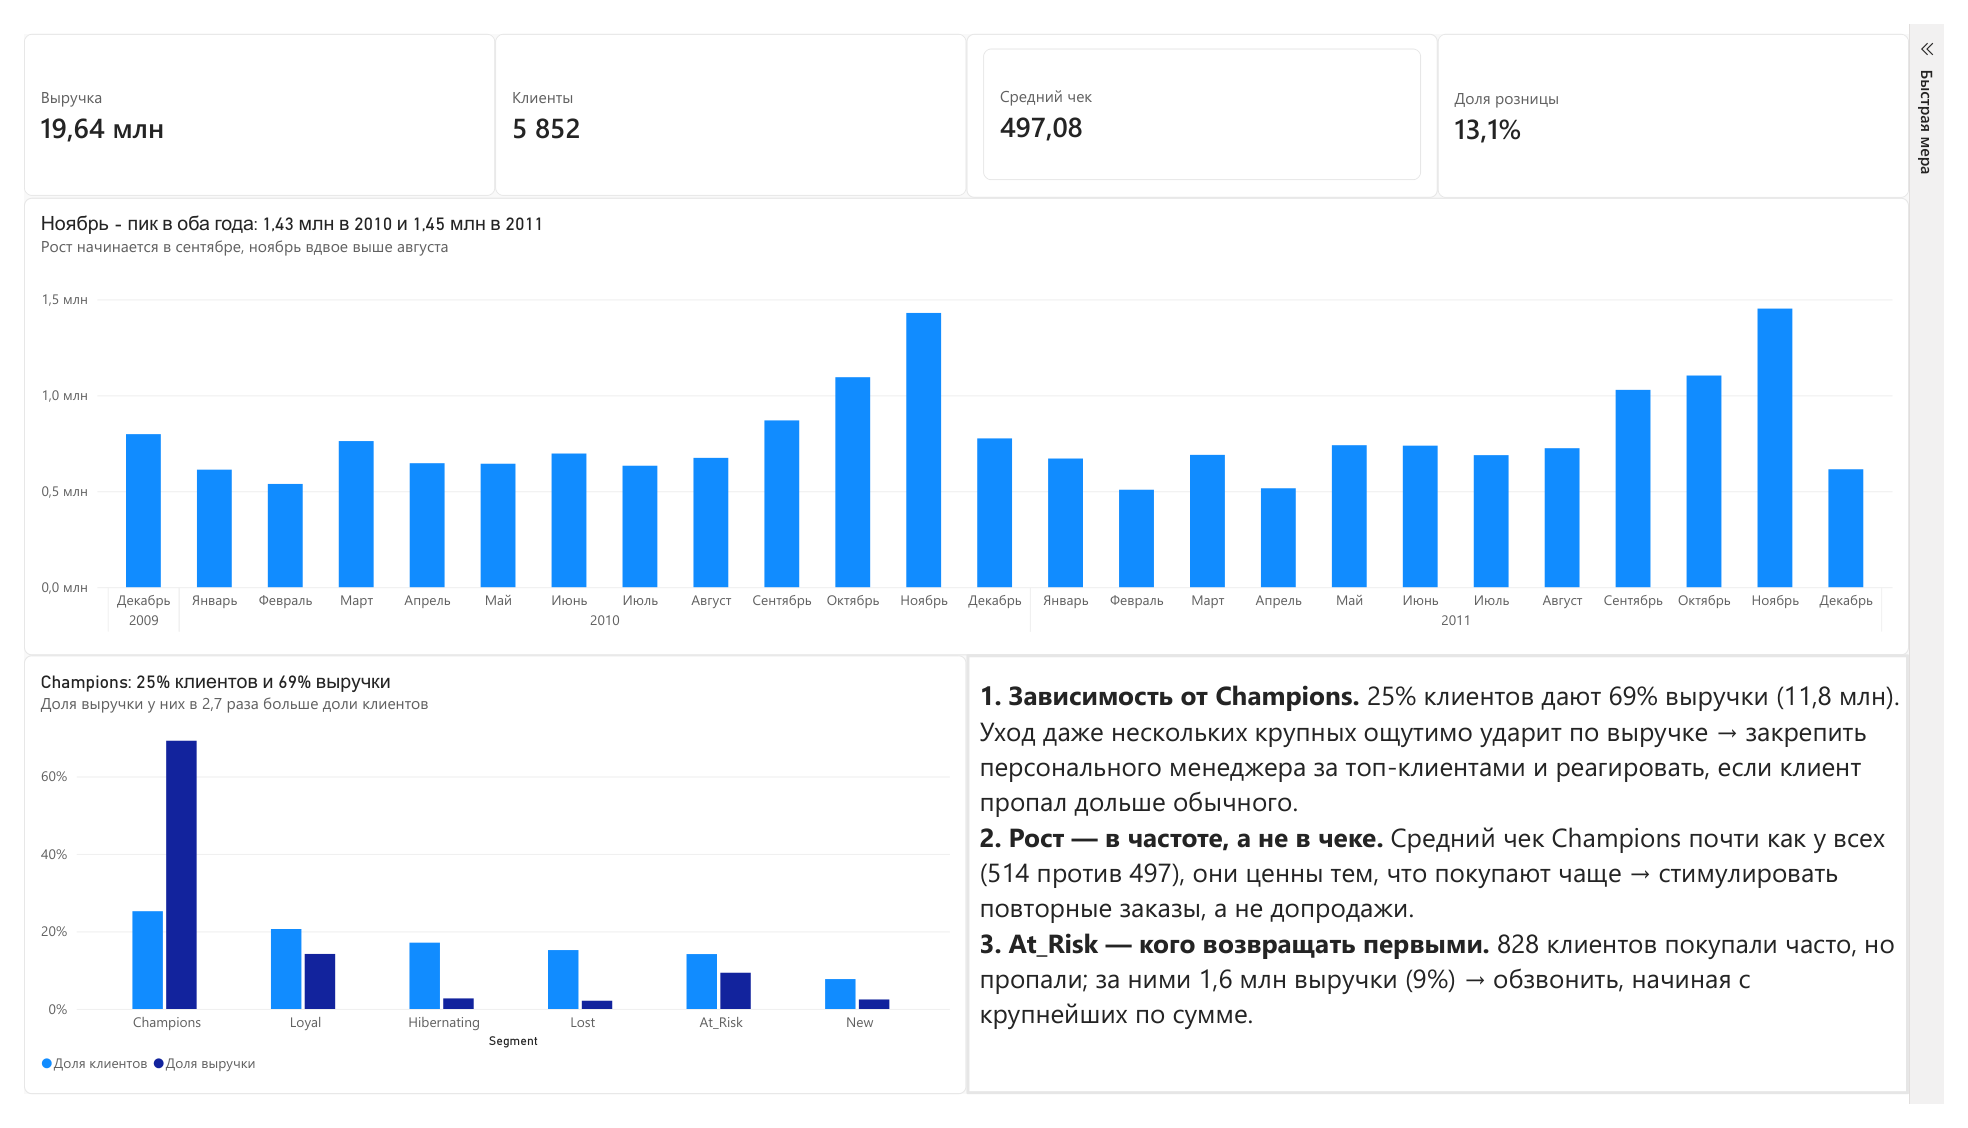

The page's visual inventory and layout, read from the dashboard file:
{"tool":"powerbi","page":{"name":"Выручка и клиенты","canvas":[1920,1080],"ordinal":0},"visuals":[{"type":"cardVisual","fields":{"Data":["Sum(sales.Revenue)"]},"box":[0,0,480,165],"z":0},{"type":"cardVisual","fields":{"Data":["sales.Клиенты (показ)"]},"box":[480,0,480,165],"z":1000},{"type":"cardVisual","fields":{"Data":["sales.Средний чек"]},"box":[960,0,480,166.7],"z":2000},{"type":"clusteredColumnChart","title":"Ноябрь - пик в оба года: 1,43 млн в 2010 и 1,45 млн в 2011","fields":{"Category":["sales.InvoiceDate.Изменение.Иерархия дат.Год","sales.InvoiceDate.Изменение.Иерархия дат.Месяц"],"Y":["Sum(sales.Revenue)"]},"box":[0,166.7,1920,466.7],"z":3000},{"type":"clusteredColumnChart","title":"Champions: 25% клиентов и 69% выручки","fields":{"Category":["rfm_bi.Segment"],"Y":["sales.Клиенты","Sum(sales.Revenue)"]},"box":[0,633.3,960,446.7],"z":3001},{"type":"textbox","box":[960,632,960,448],"z":3002},{"type":"cardVisual","fields":{"Data":["sales.Доля розницы"]},"box":[1440,0,480,167],"z":3003}]}

Visuals, with their boxes in screenshot pixels (x1, y1, x2, y2), scaled from the page's 1920x1080 canvas onto the 1968x1128 screenshot:
cardVisual - Sum(sales.Revenue): [x1=0, y1=0, x2=492, y2=172]
cardVisual - sales.Клиенты (показ): [x1=492, y1=0, x2=984, y2=172]
cardVisual - sales.Средний чек: [x1=984, y1=0, x2=1476, y2=174]
"Ноябрь - пик в оба года: 1,43 млн в 2010 и 1,45 млн в 2011" clusteredColumnChart: [x1=0, y1=174, x2=1967, y2=662]
"Champions: 25% клиентов и 69% выручки" clusteredColumnChart: [x1=0, y1=661, x2=984, y2=1127]
textbox: [x1=984, y1=660, x2=1967, y2=1127]
cardVisual - sales.Доля розницы: [x1=1476, y1=0, x2=1967, y2=174]
